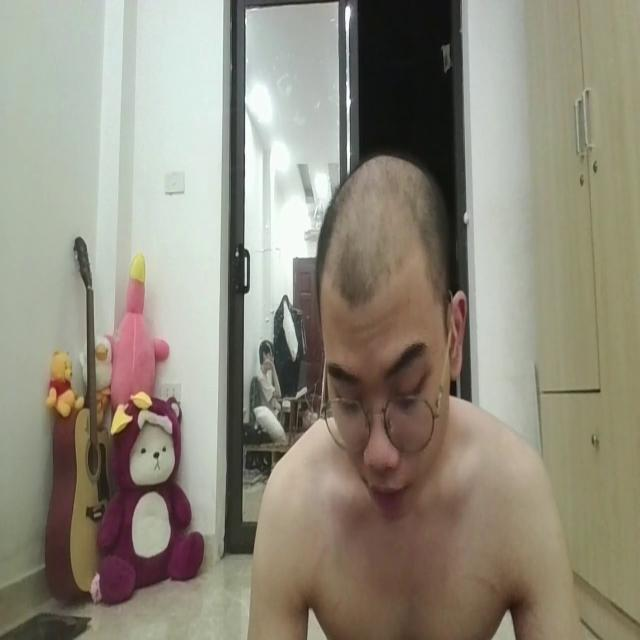student: (244, 110, 583, 640)
